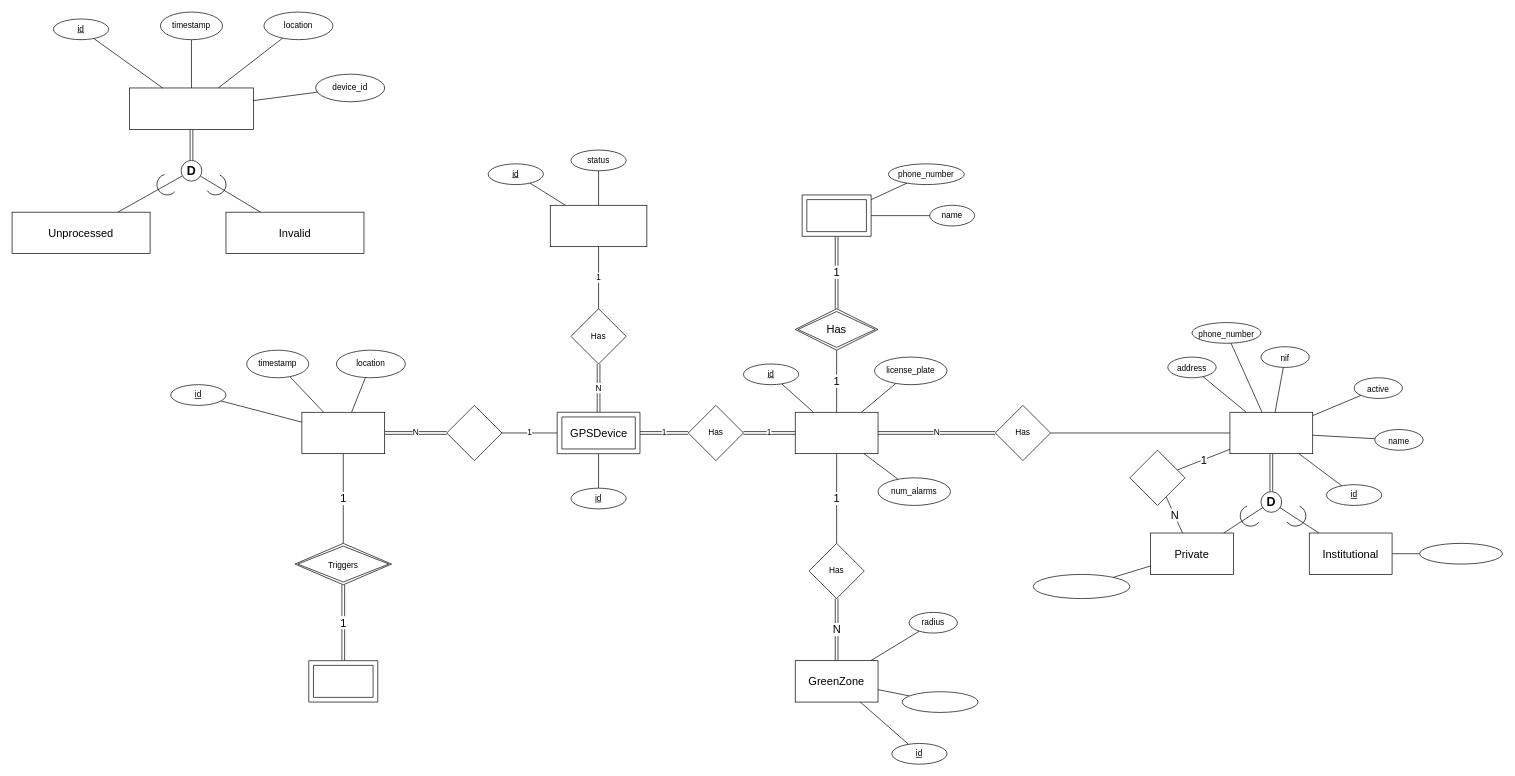
This 1515x776 diagram has some shape labels left out. The shapes that lost their labels are listed below. From the top down, each one's centre as x and y in pixels, then its label:
At point 191,108: "RetrievedGPSData".
At point 598,226: "GPSDeviceState".
At point 836,215: "Driver".
At point 343,433: "GPSData".
At point 474,433: "Sends".
At point 836,433: "Vehicle".
At point 1271,433: "Client".
At point 1157,477: "Refers".
At point 1460,553: "contact_name".
At point 1081,586: "citizen_card_number".
At point 343,681: "Alarm".
At point 939,701: "center_location".
